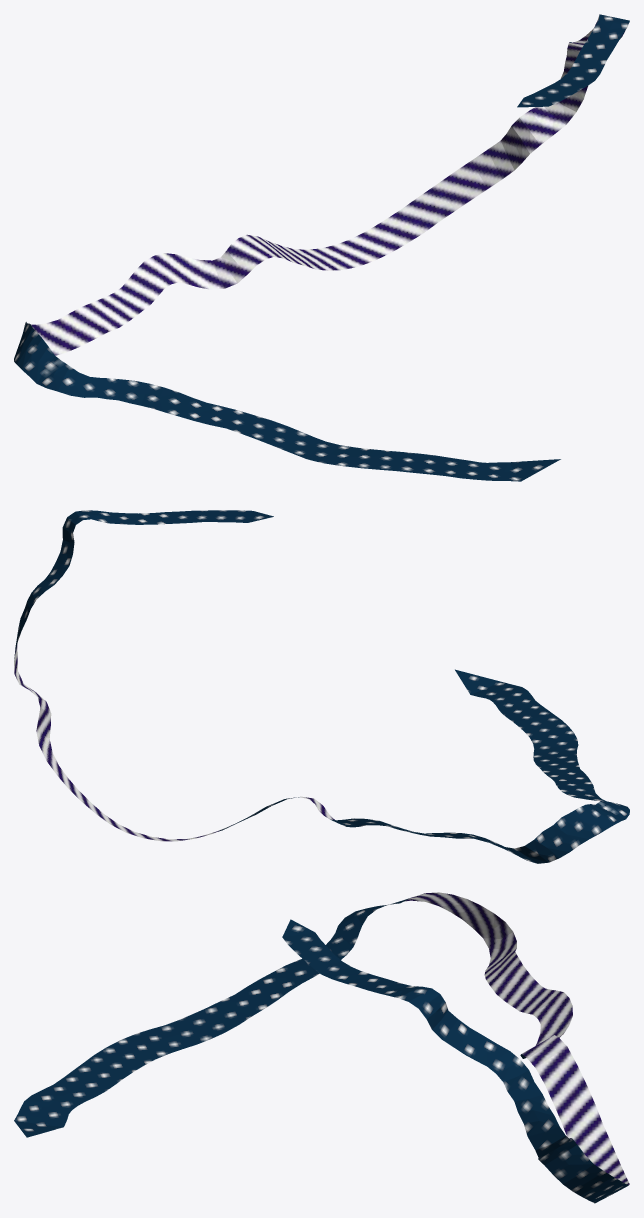
3 renders of one model, top to bottom at view 1: azimuth 30°, elevation 25°; view 2: azimuth 150°, elevation 25°; view 3: azimuth 270°, elevation 25°, orthographic. The views are drawn at different scales.
Parts seen in each view (by area): view 1: Mesh2; view 2: Mesh2; view 3: Mesh2.
Part boxes in pixels (left/top/right/bottom): Mesh2: left=14, top=14, right=629, bottom=481; Mesh2: left=14, top=510, right=629, bottom=863; Mesh2: left=14, top=892, right=629, bottom=1203.
Size of the model in its own units: 2.15 by 0.8743 by 1.73.
2 materials, 2 textured.
